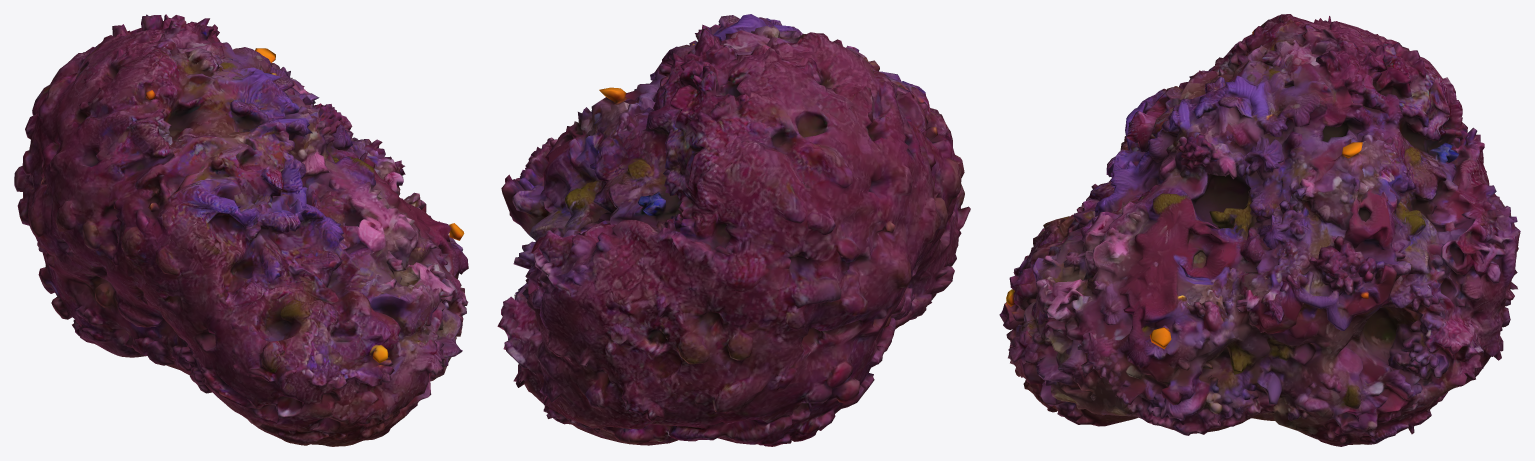
Rendered from rock_i.glb.
The picture shows the model from 3 angles, left to right: view 1: azimuth 30°, elevation 25°; view 2: azimuth 150°, elevation 25°; view 3: azimuth 270°, elevation 25°; orthographic projection. The views are drawn at different scales.
Visible parts, largest first — view 1: tripo_node_3b2be377-3024-4aa5-9c46-be2ddab7109a; view 2: tripo_node_3b2be377-3024-4aa5-9c46-be2ddab7109a; view 3: tripo_node_3b2be377-3024-4aa5-9c46-be2ddab7109a.
Part boxes in pixels (bbox=[...]): tripo_node_3b2be377-3024-4aa5-9c46-be2ddab7109a: bbox=[14, 14, 468, 446]; tripo_node_3b2be377-3024-4aa5-9c46-be2ddab7109a: bbox=[497, 14, 970, 446]; tripo_node_3b2be377-3024-4aa5-9c46-be2ddab7109a: bbox=[999, 14, 1520, 446].
Size of the model in its own units: 0.8057 by 0.741 by 1.
Materials: 1 (1 with a texture image).
